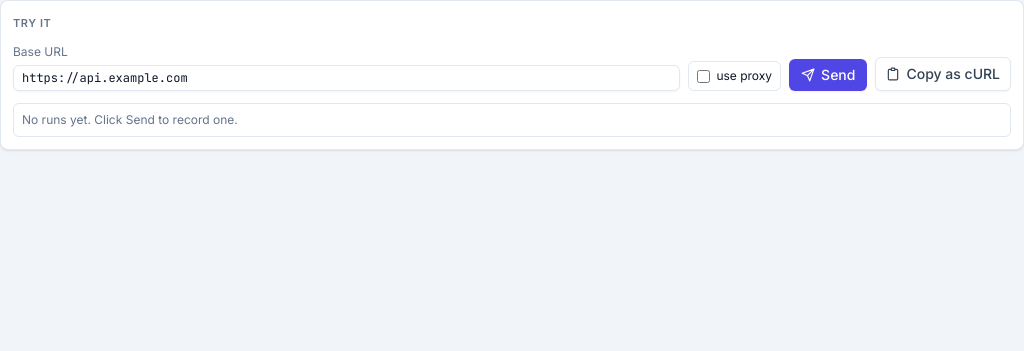
Test: renders three green chips when all assertions pass
The image size is (1024, 351).
Click the button "Send" at (828, 75), box [789,59,867,91]
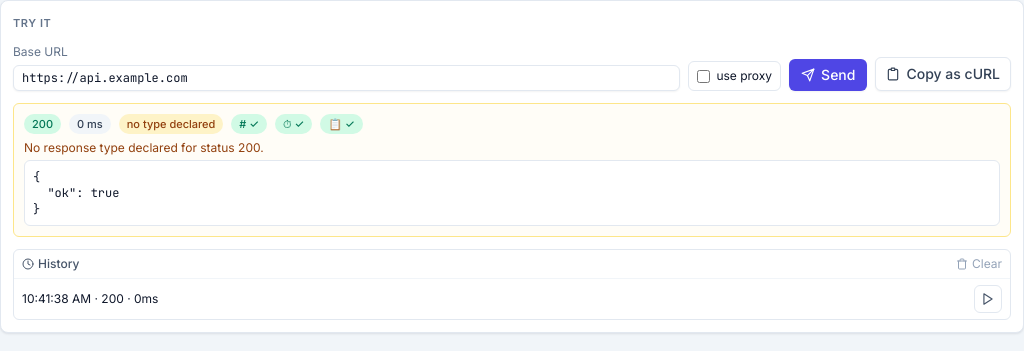
Result: the text titled "Status 200" is shown at [231,114,267,134]
